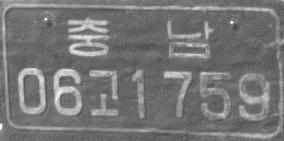0: (16, 66, 46, 115)
1: (124, 69, 155, 120)
5: (198, 70, 231, 121)
6: (51, 67, 82, 116)
7: (161, 70, 192, 118)
9: (237, 72, 270, 122)
고: (88, 68, 119, 117)
충남_D: (66, 17, 214, 60)
